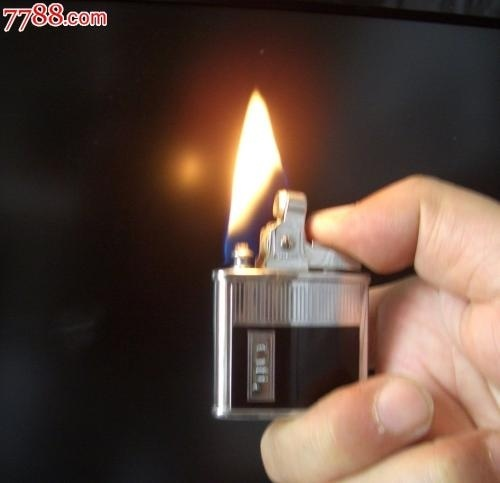fire: (226, 83, 284, 258)
